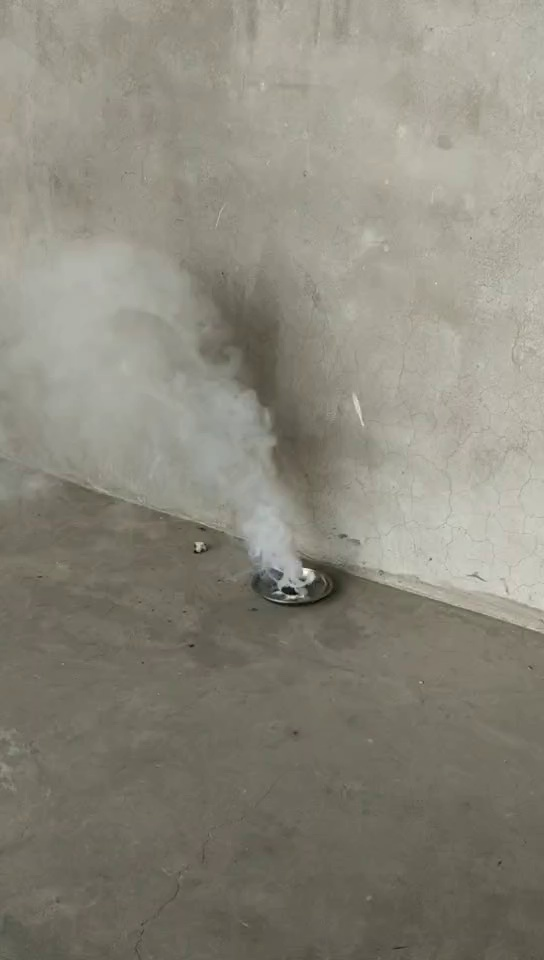yanwu: (21, 247, 310, 594)
